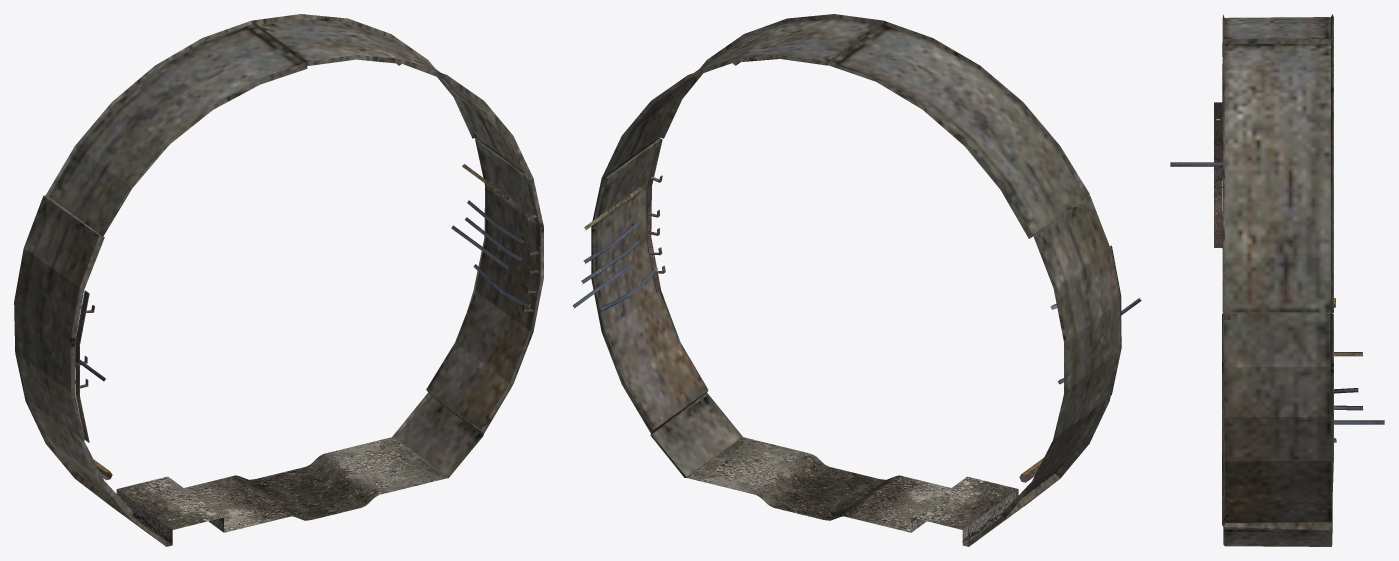
Rendered from tunnel_beton_1.obj.
The picture shows the model from 3 angles, left to right: view 1: azimuth 30°, elevation 25°; view 2: azimuth 150°, elevation 25°; view 3: azimuth 270°, elevation 25°; orthographic projection. The views are drawn at different scales.
Visible parts, largest first — view 1: concrete_tile_07, floor_tunnel_pod, metal_corr_dsc, metal_trub_tonnel, concrete_opalubka_tunnel; view 2: concrete_tile_07, floor_tunnel_pod, metal_trub_tonnel, metal_corr_dsc, concrete_opalubka_tunnel; view 3: concrete_tile_07, metal_corr_dsc, metal_trub_tonnel.
Part boxes in pixels (x1,y1,x2,y2): concrete_tile_07: (14,14,543,546); floor_tunnel_pod: (117,437,447,546); metal_corr_dsc: (75,183,540,442); metal_trub_tonnel: (75,63,531,480); concrete_opalubka_tunnel: (116,489,172,544); concrete_tile_07: (591,14,1119,546); floor_tunnel_pod: (687,437,1017,546); metal_trub_tonnel: (572,62,1141,482); metal_corr_dsc: (646,140,1121,395); concrete_opalubka_tunnel: (962,489,1018,544); concrete_tile_07: (1222,14,1333,546); metal_corr_dsc: (1214,102,1230,320); metal_trub_tonnel: (1170,117,1384,442).
Size of the model in its own units: 8.92 by 8.25 by 3.58.
